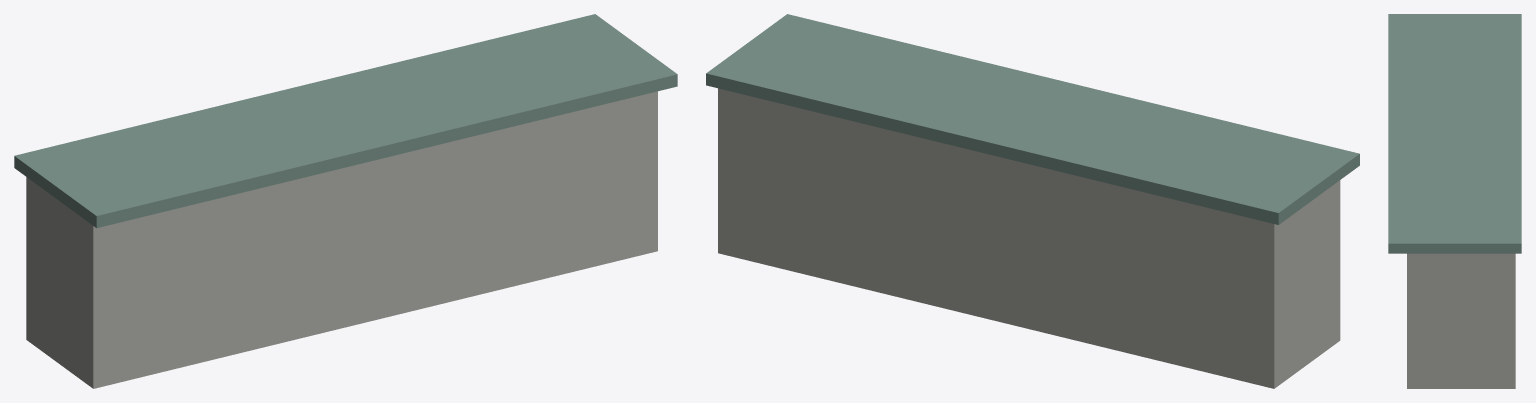
File: mov_9ebdaccb5d.gltf
3 views of the same model, side by side, from view 1: azimuth 30°, elevation 25°; view 2: azimuth 150°, elevation 25°; view 3: azimuth 270°, elevation 25° (orthographic). The views are drawn at different scales.
Visible parts, largest first — view 1: mov_9ebdaccb5d; view 2: mov_9ebdaccb5d; view 3: mov_9ebdaccb5d.
Part boxes in pixels (bbox=[...]): mov_9ebdaccb5d: bbox=[14, 14, 677, 388]; mov_9ebdaccb5d: bbox=[706, 14, 1359, 388]; mov_9ebdaccb5d: bbox=[1388, 14, 1521, 388].
Size of the model in its own units: 3.5 by 1.05 by 0.86.
